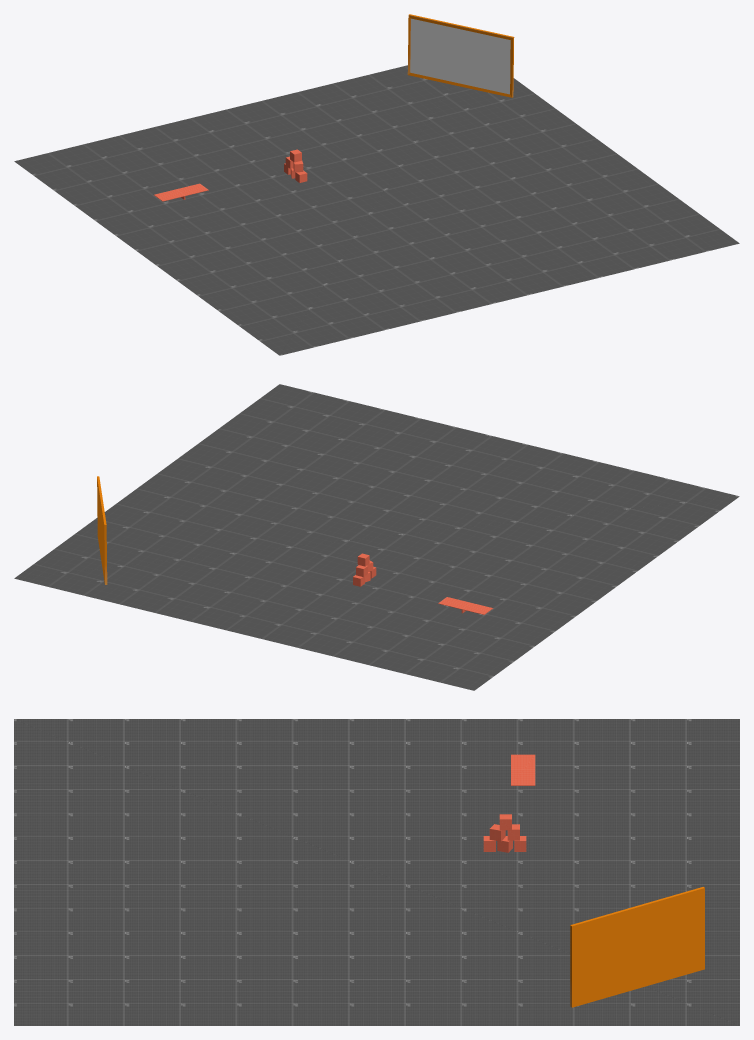
File: level.glb
3 renders of one model, top to bottom at view 1: azimuth 30°, elevation 25°; view 2: azimuth 150°, elevation 25°; view 3: azimuth 270°, elevation 25°, orthographic. The views are drawn at different scales.
Parts seen in each view (by area): view 1: Ground, TV, TV_BORDER; view 2: Ground, TV_BORDER; view 3: Ground, TV_BORDER, Cube.006.
Boxes of the visible parts, x1=… form: Ground: x1=14, y1=65, x2=739, y2=355; TV: x1=410, y1=18, x2=510, y2=94; TV_BORDER: x1=407, y1=14, x2=514, y2=97; Ground: x1=14, y1=384, x2=739, y2=690; TV_BORDER: x1=97, y1=476, x2=107, y2=584; Ground: x1=14, y1=719, x2=739, y2=1025; TV_BORDER: x1=570, y1=887, x2=704, y2=1007; Cube.006: x1=511, y1=754, x2=535, y2=785.
Bounding box in the file's own units: 59.83 × 7.85 × 59.83.
Materials: 3 (3 with a texture image).
